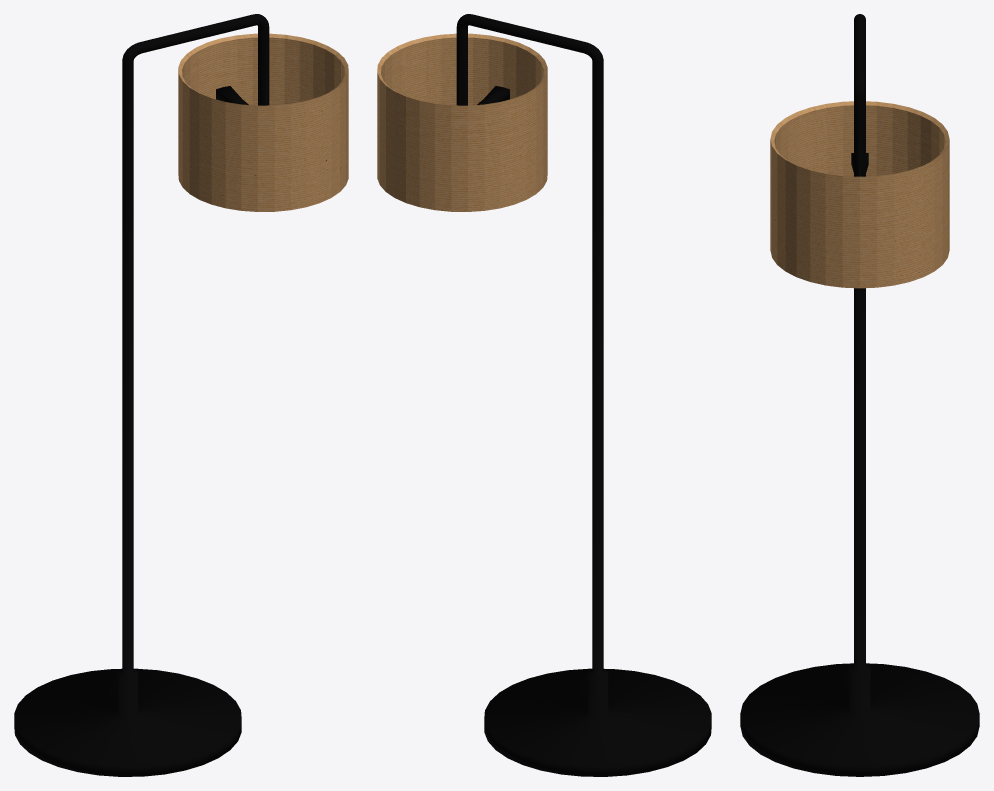
Rendered from lampev2.fbx.
3 renders of one model, left to right at view 1: azimuth 30°, elevation 25°; view 2: azimuth 150°, elevation 25°; view 3: azimuth 270°, elevation 25°, orthographic. The views are drawn at different scales.
Visible parts, largest first — view 1: Cylinder.002; view 2: Cylinder.002; view 3: Cylinder.002.
Boxes of the visible parts, left/top/right/bottom form: Cylinder.002: left=14, top=14, right=348, bottom=776; Cylinder.002: left=377, top=14, right=711, bottom=776; Cylinder.002: left=740, top=14, right=979, bottom=776.
Size of the model in its own units: 146 by 310 by 93.68.
2 materials, 1 textured.
